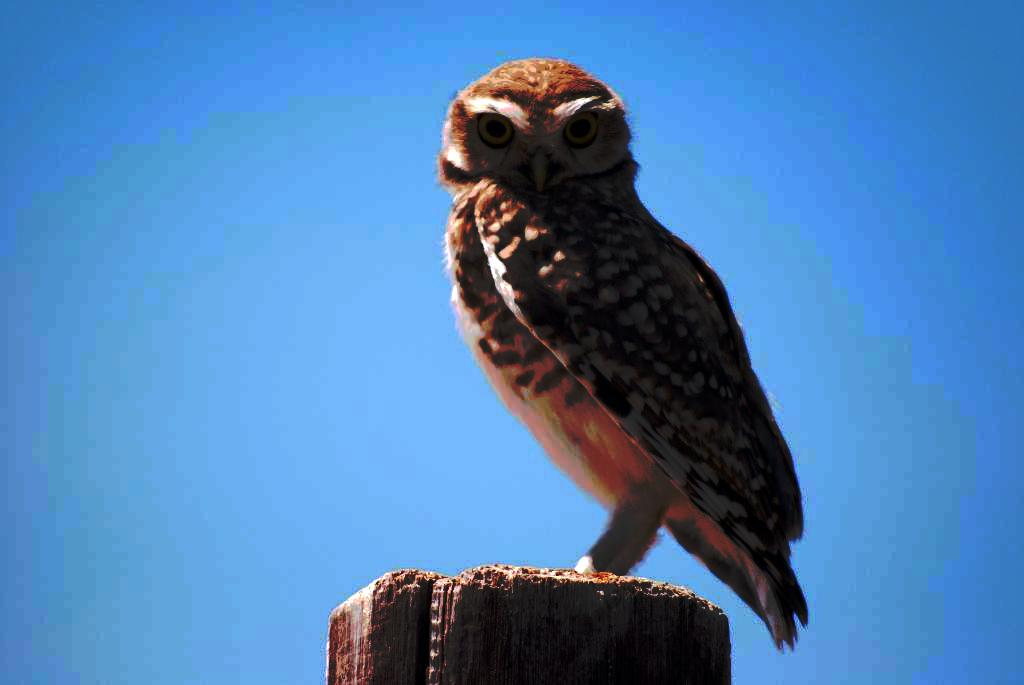Owl: (431, 58, 808, 656)
